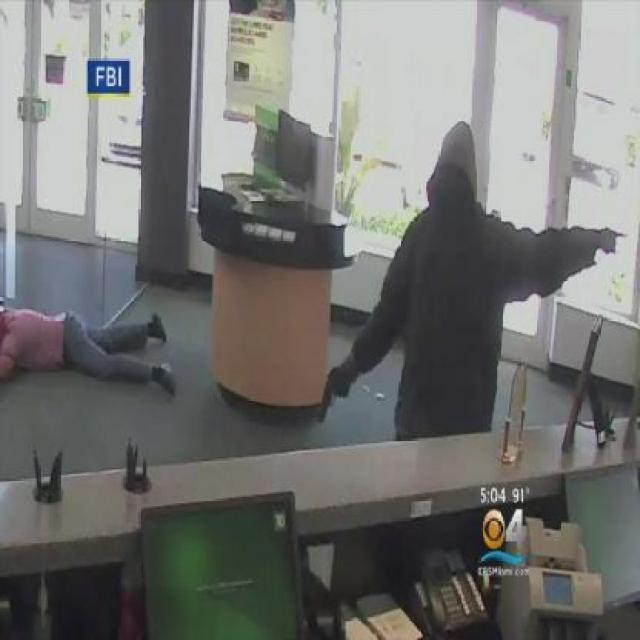Gun: (312, 362, 357, 427)
